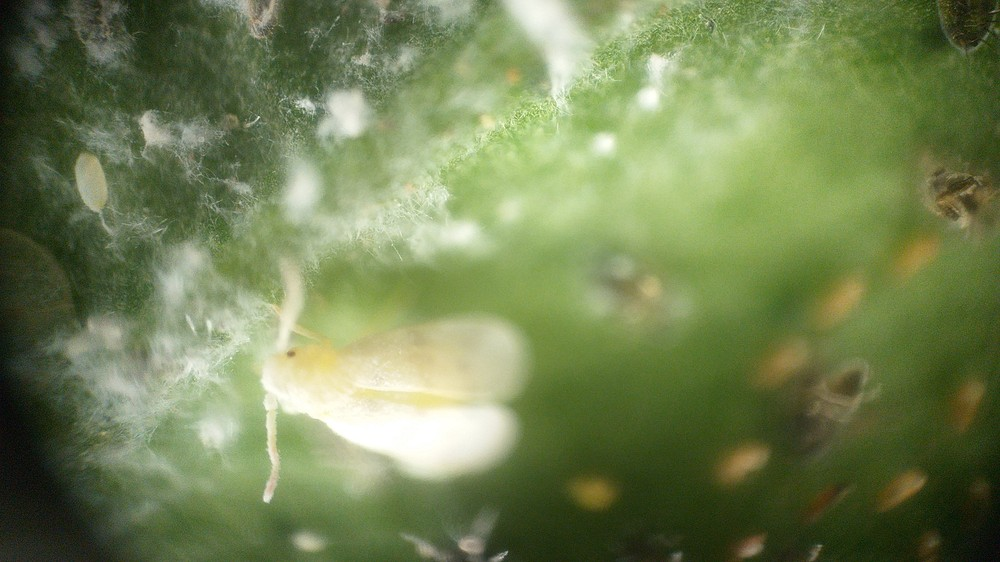Mosca Blanca: (219, 252, 546, 523)
